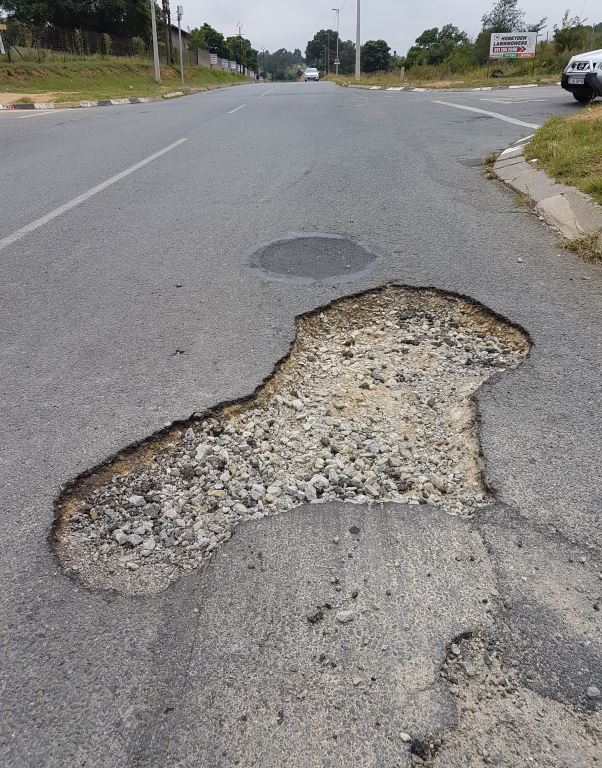pothole: (19, 259, 602, 604)
